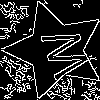W: (30, 25, 92, 84)
